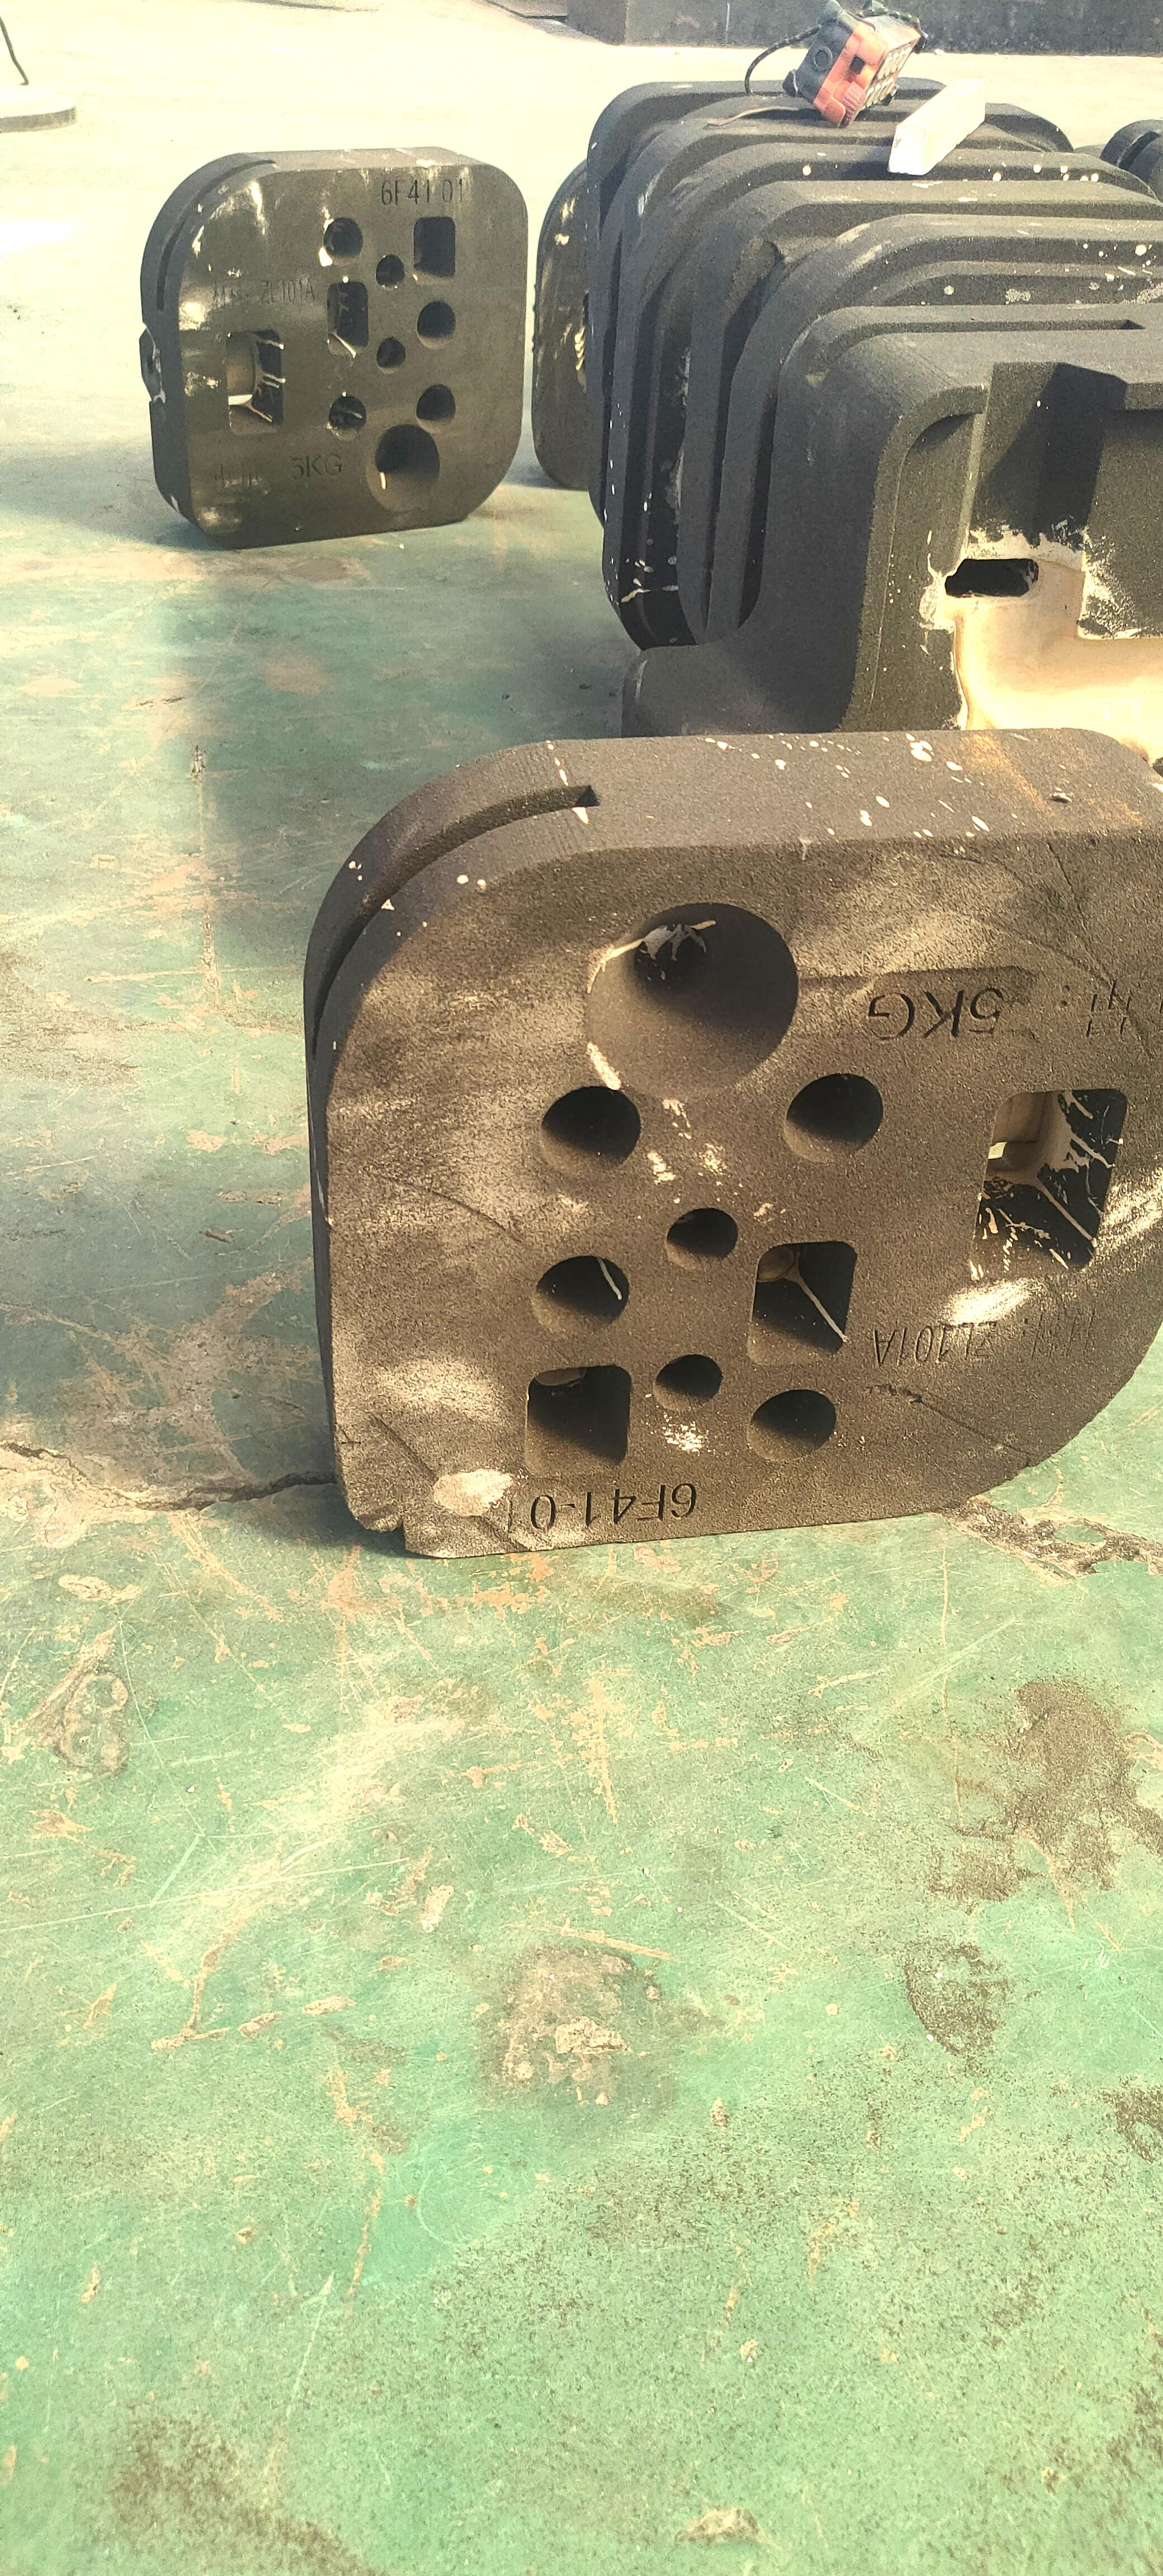pouring hole: (586, 902, 798, 1097), (365, 422, 440, 513)
